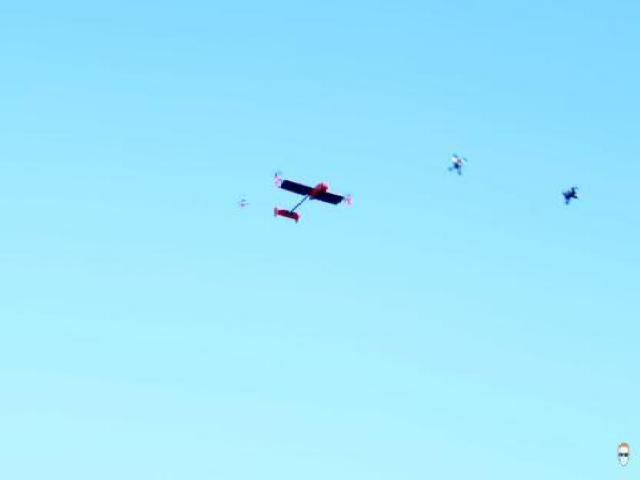uav: (262, 164, 358, 235)
